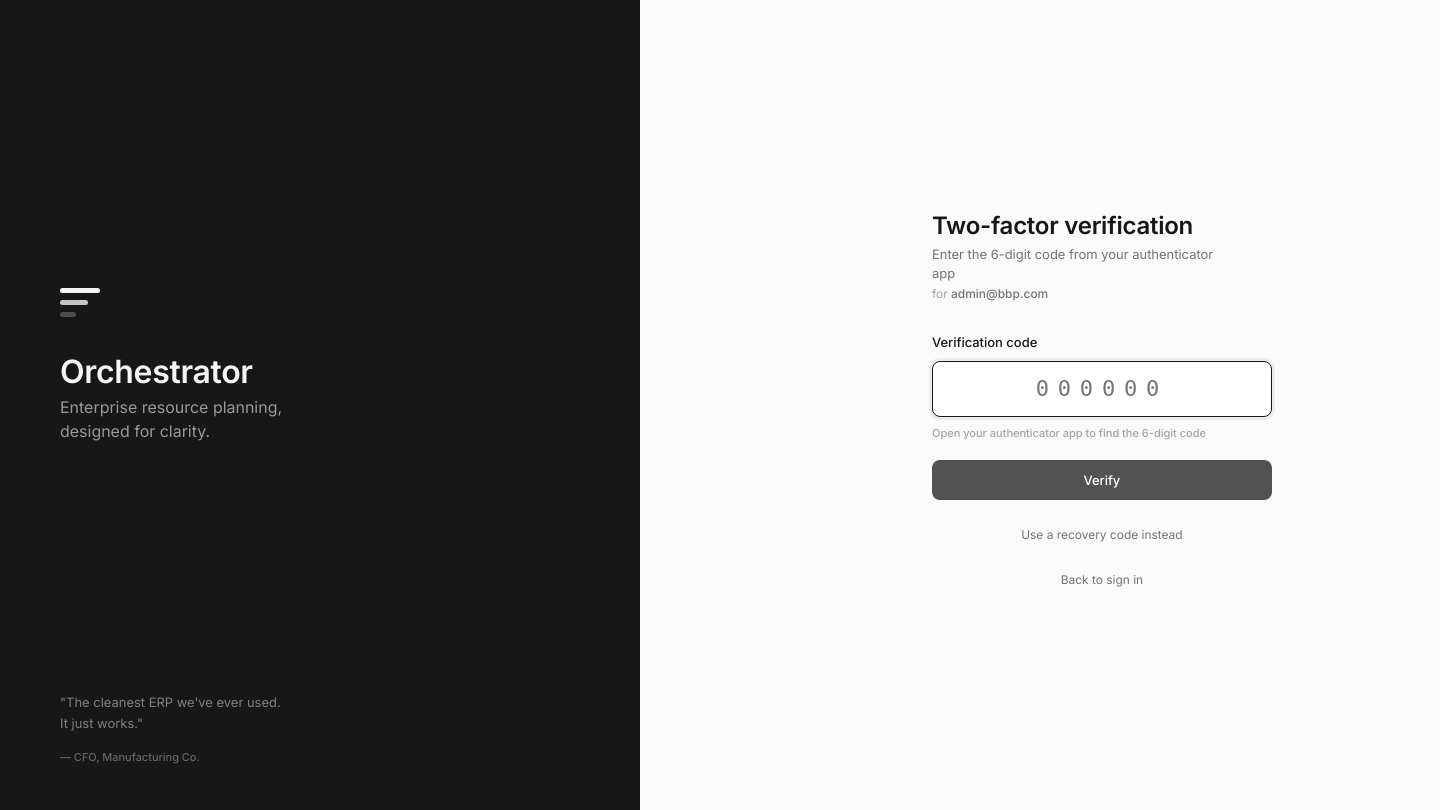
MfaPage — recovery code path — VAL-AUTH-006 › toggles to recovery code mode when clicking the toggle
Click the button "Use a recovery code instead" at (1102, 535), box [932, 517, 1272, 553]
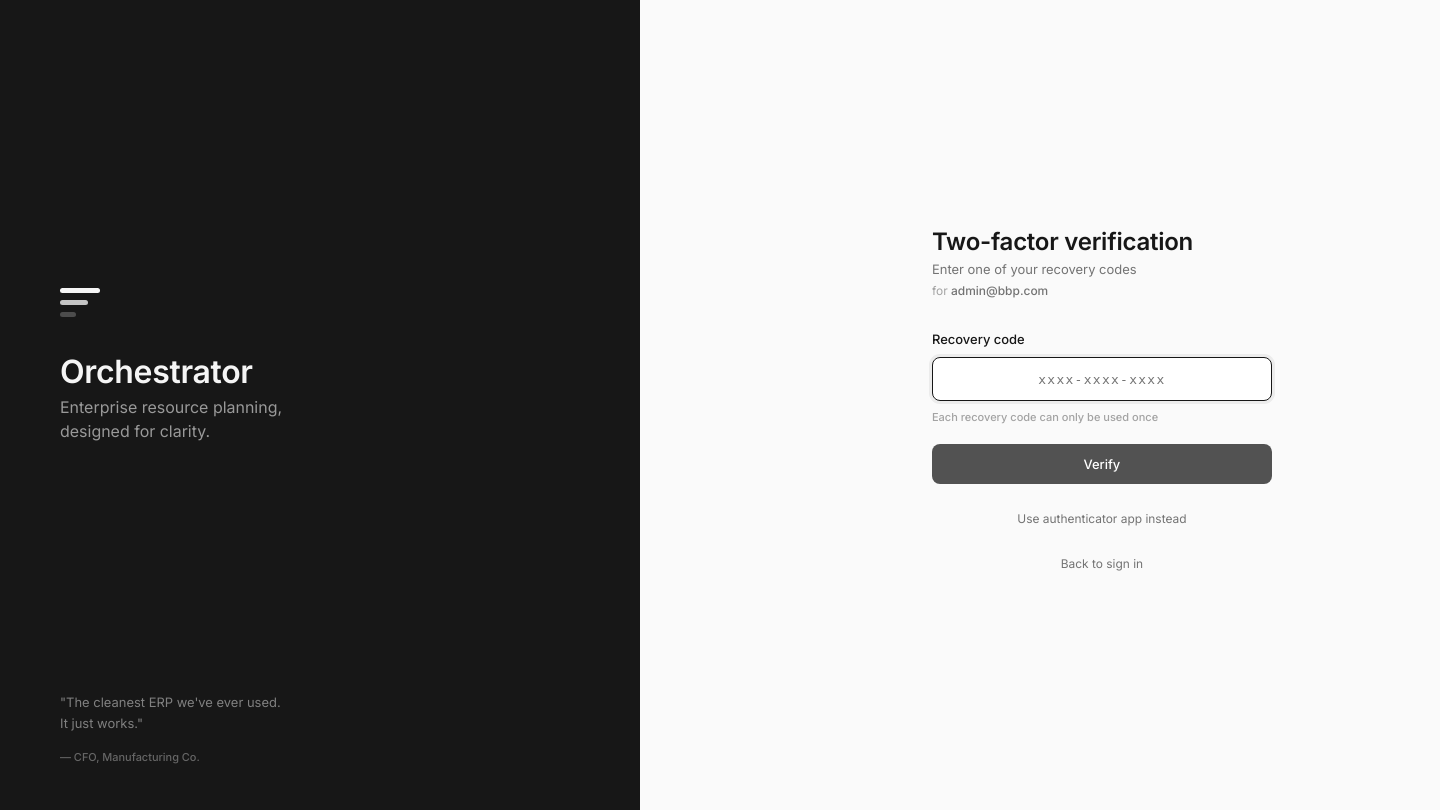
Check: the field labelled "Recovery code" is shown, box [932, 357, 1272, 401]
